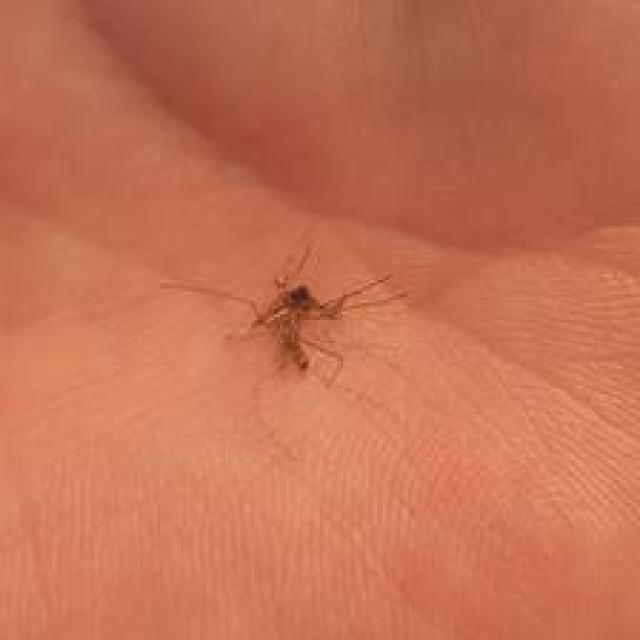Culex: (159, 239, 410, 390)
